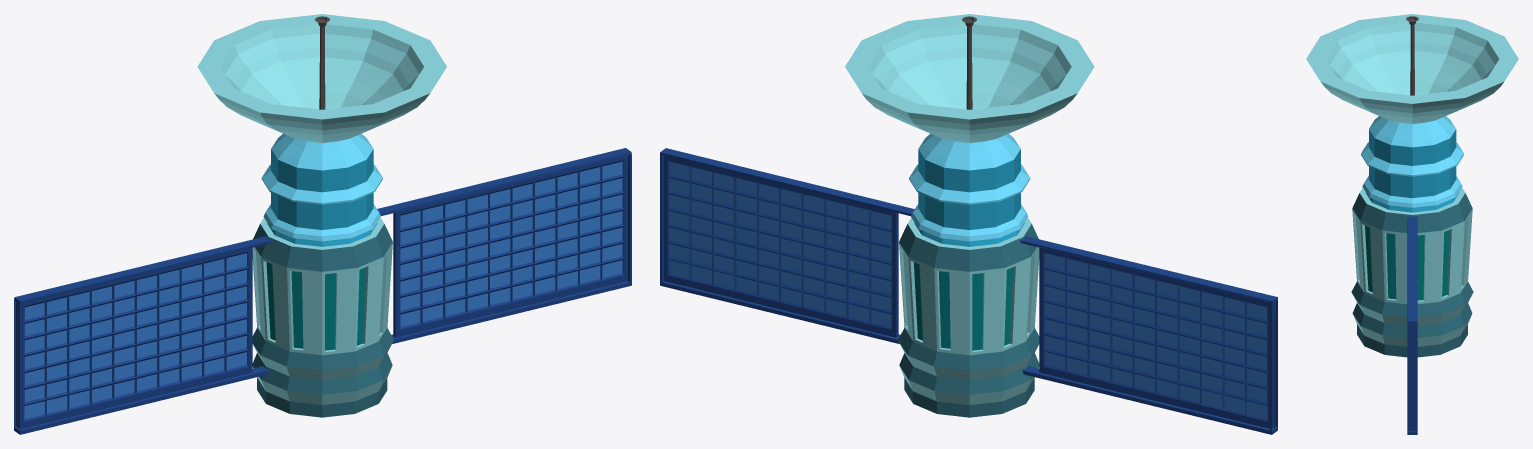
Rendered from satellite.glb.
The picture shows the model from 3 angles, left to right: view 1: azimuth 30°, elevation 25°; view 2: azimuth 150°, elevation 25°; view 3: azimuth 270°, elevation 25°; orthographic projection. The views are drawn at different scales.
Visible parts, largest first — view 1: Cylinder, Cylinder.001; view 2: Cylinder, Cylinder.001; view 3: Cylinder.
Part boxes in pixels (x1,y1,x2,y2): Cylinder: (14,14,631,434); Cylinder.001: (24,161,622,419); Cylinder: (660,14,1277,434); Cylinder.001: (669,161,1267,419); Cylinder: (1306,14,1518,434).
Bounding box in the file's own units: 19.74 × 11.66 × 6.98.
Materials: 2 (2 with a texture image).
